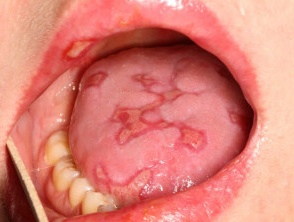SJS-TEN: (103, 53, 215, 154), (84, 136, 171, 222), (57, 22, 104, 72), (78, 63, 113, 101), (220, 101, 257, 136)
